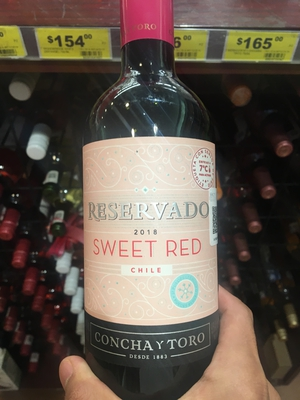reservado sweet red: (76, 12, 238, 400)
